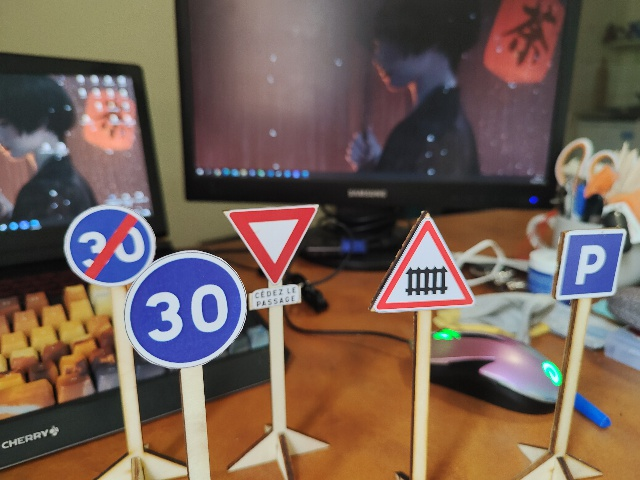P: (555, 228, 623, 299)
ban: (62, 206, 153, 284)
second: (225, 202, 319, 310)
thirty: (125, 251, 246, 369)
train: (373, 208, 474, 310)
